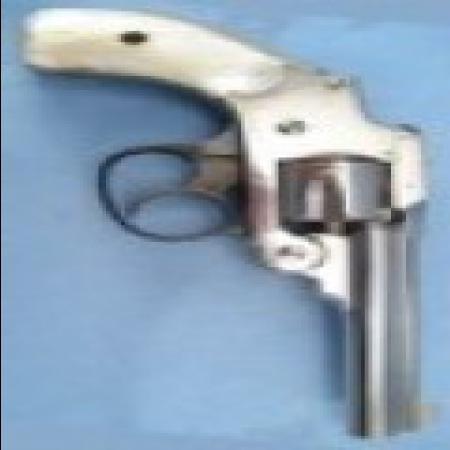Pistol: (23, 17, 438, 436)
